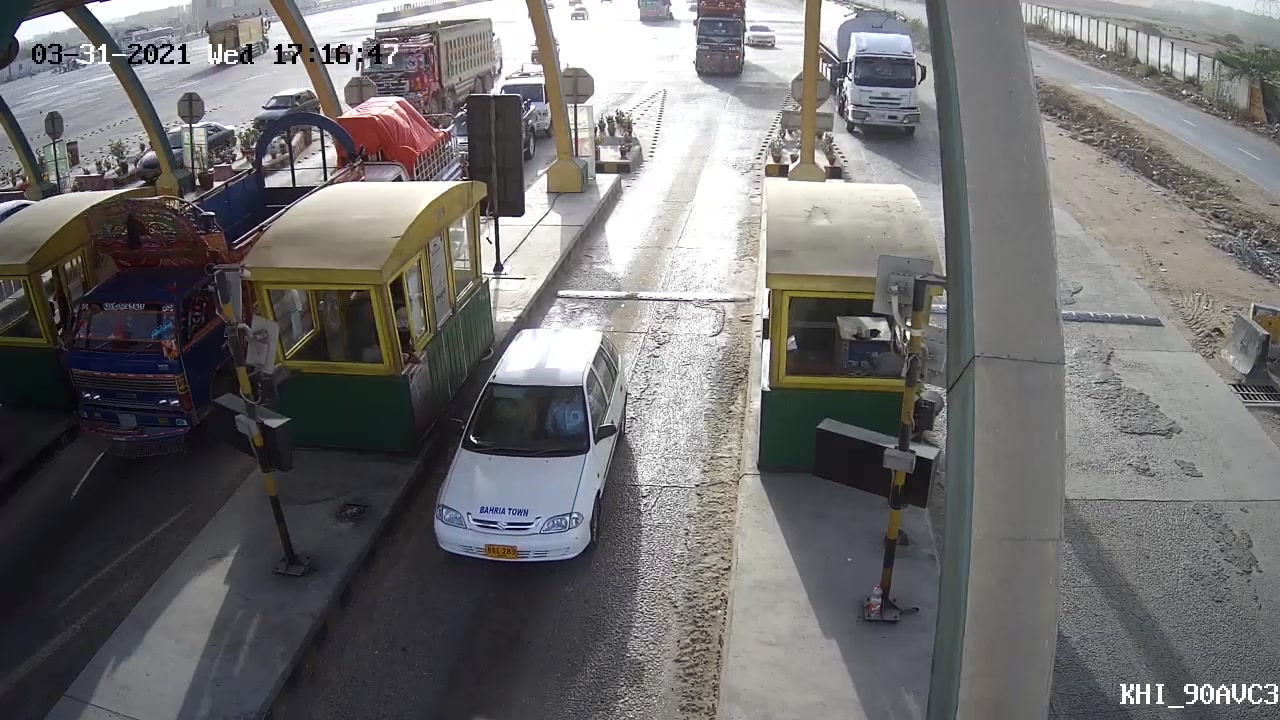F1: (435, 318, 629, 600)
